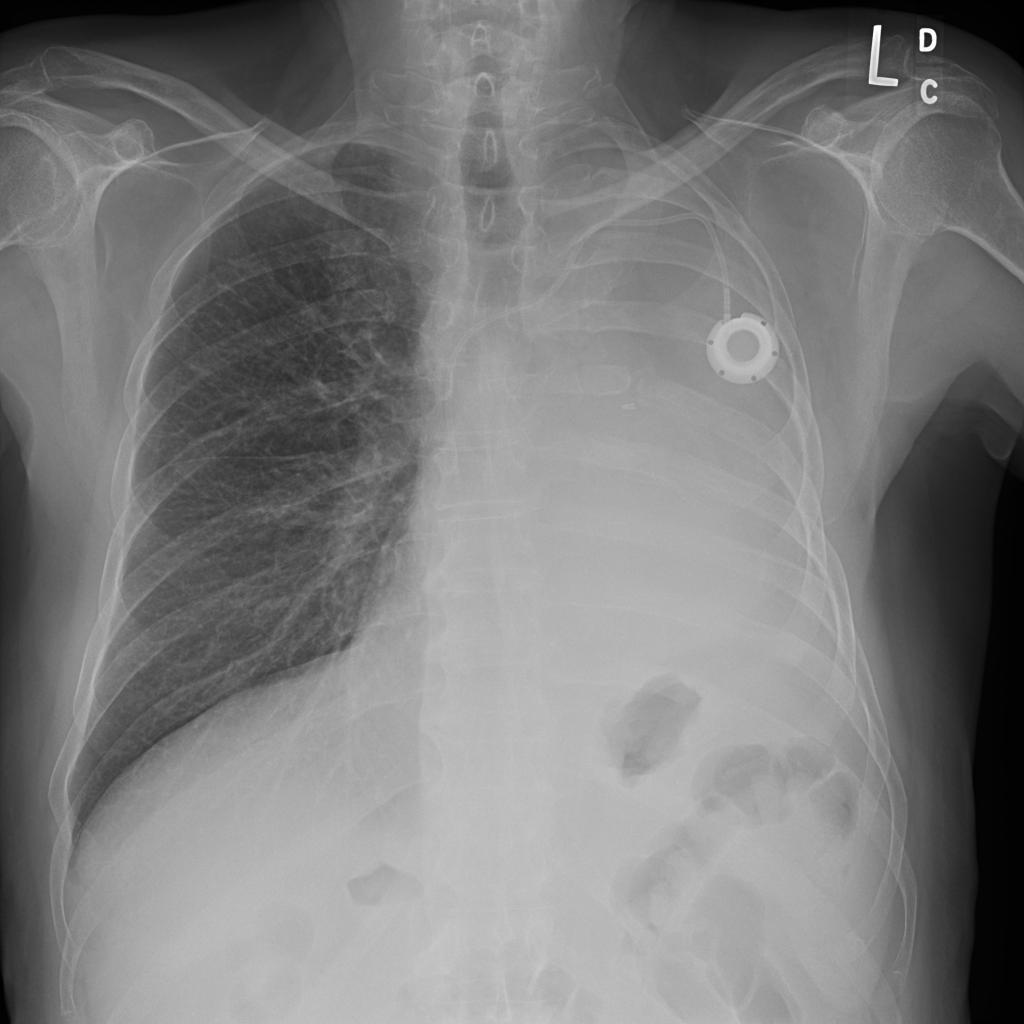Nodule: (113, 294, 134, 320), (66, 324, 80, 351)
